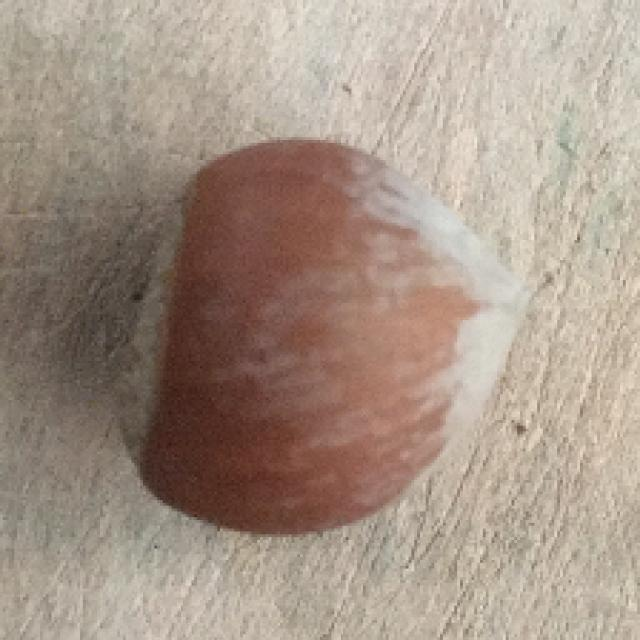qualityHazelnut: (103, 139, 530, 538)
